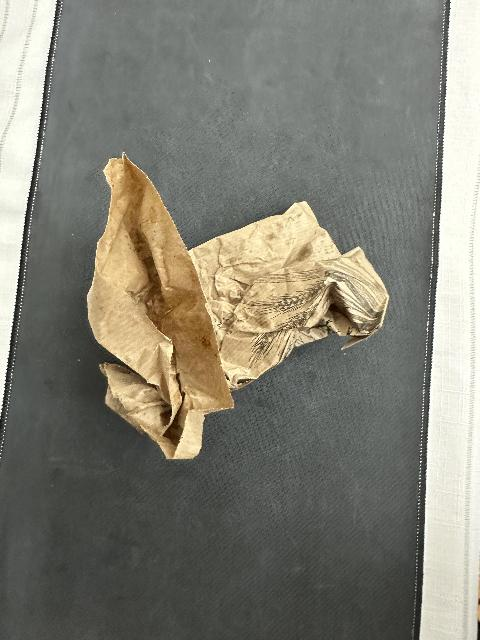Kagit: (78, 146, 397, 460)
